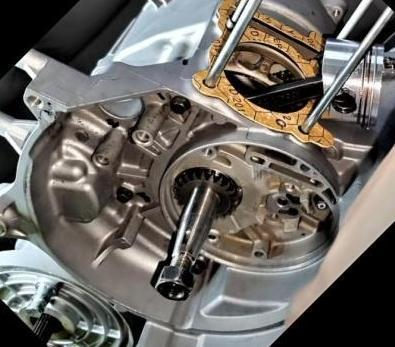hole: (128, 123, 157, 153), (87, 147, 114, 174), (22, 88, 47, 113), (196, 141, 219, 164)
